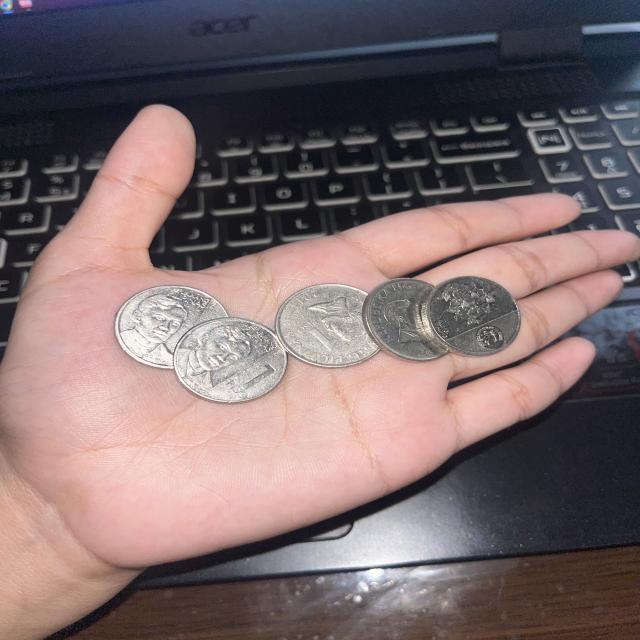1_New_Back: (428, 278, 508, 327)
1_New_Front: (219, 364, 282, 401)
1_Old_Front: (290, 316, 341, 354)
